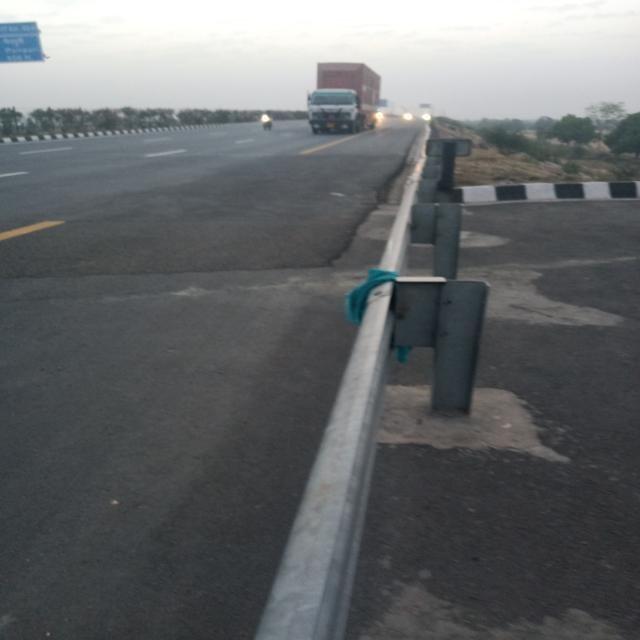truck_front: (301, 57, 386, 137)
